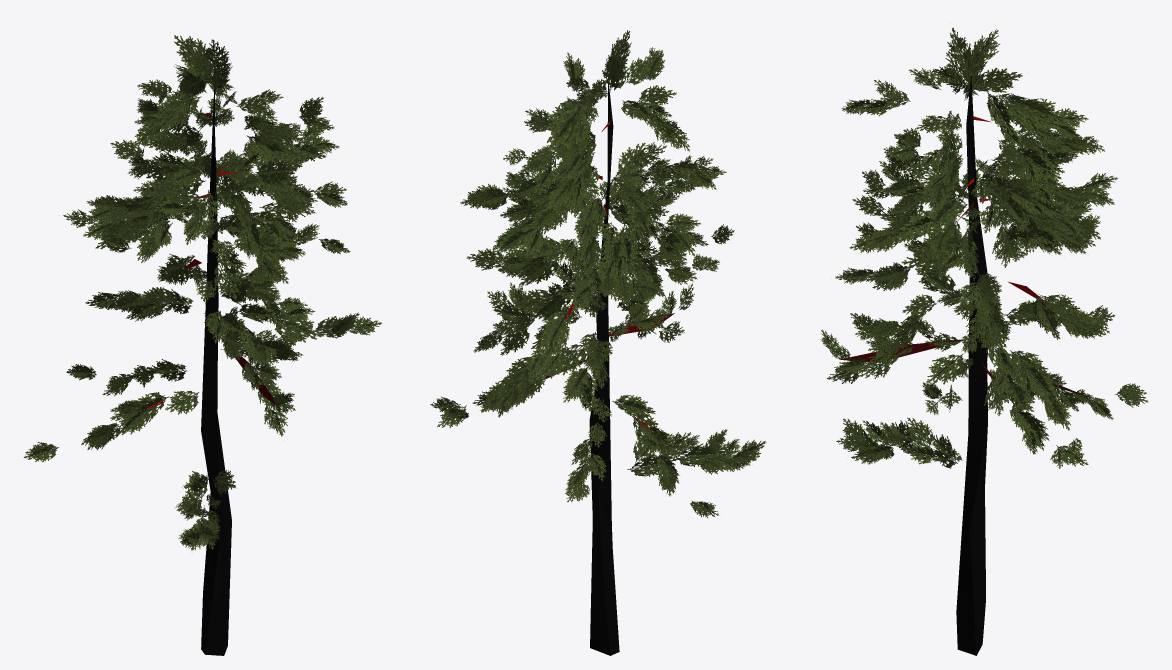
Rendered from pine3 lod3.FBX.
3 views of the same model, side by side, from view 1: azimuth 30°, elevation 25°; view 2: azimuth 150°, elevation 25°; view 3: azimuth 270°, elevation 25° (orthographic).
Parts seen in each view (by area): view 1: pine3_LOD3; view 2: pine3_LOD3; view 3: pine3_LOD3.
Boxes of the visible parts, x1,y1,x2,y2 form: pine3_LOD3: [23, 35, 382, 655]; pine3_LOD3: [430, 30, 766, 655]; pine3_LOD3: [820, 27, 1148, 655].
Bounding box in the file's own units: 178108 × 346402 × 174883.
